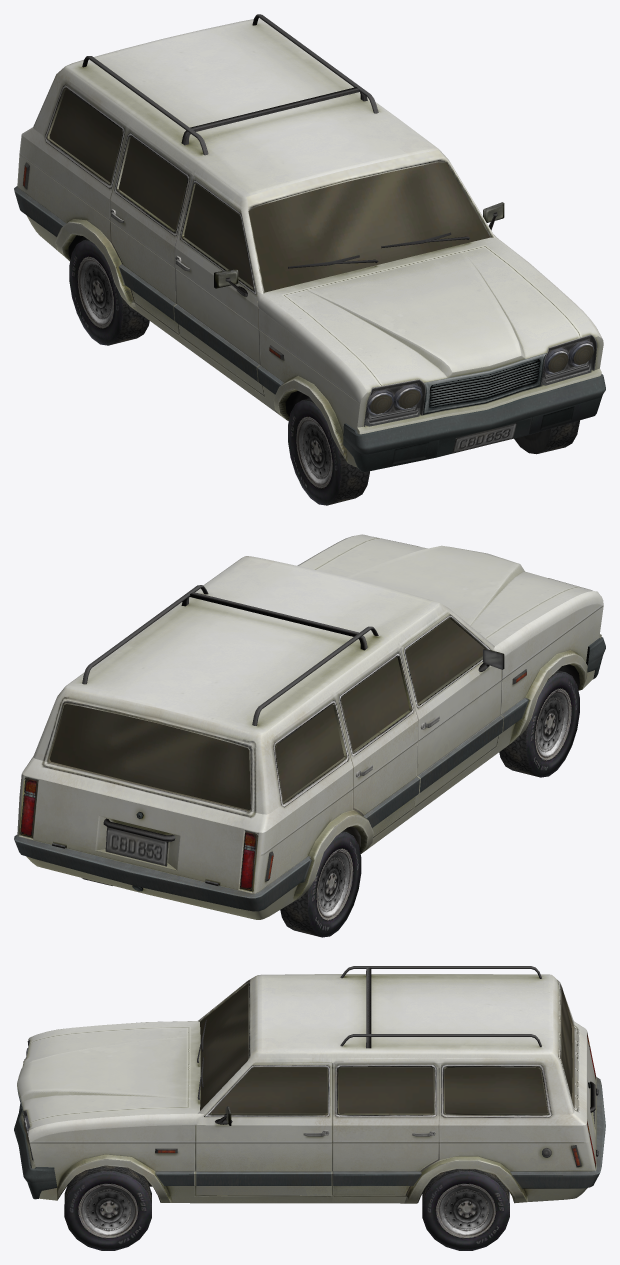
The model's file is suv.FBX.
3 renders of one model, top to bottom at view 1: azimuth 30°, elevation 25°; view 2: azimuth 150°, elevation 25°; view 3: azimuth 270°, elevation 25°, orthographic. The views are drawn at different scales.
Visible parts, largest first — view 1: OS_suv01, windshild, door_r, wheel_F_R, wheel_R_R, wheel_F_L; view 2: OS_suv01, windshild, door_r, wheel_F_R, wheel_R_R; view 3: OS_suv01, windshild, door_l, wheel_F_L, wheel_R_L.
Part boxes in pixels (x1,y1,x2,y2): OS_suv01: (14,14,605,472); windshild: (49,90,593,414); door_r: (174,176,263,394); wheel_F_R: (288,398,369,505); wheel_R_R: (69,239,149,345); wheel_F_L: (514,420,579,454); OS_suv01: (14,534,605,919); windshild: (49,618,484,810); door_r: (401,612,504,806); wheel_F_R: (499,670,579,777); wheel_R_R: (280,831,361,937); OS_suv01: (14,966,605,1203); windshild: (23,983,572,1147); door_l: (196,1063,331,1195); wheel_F_L: (64,1165,151,1250); wheel_R_L: (422,1169,509,1250).
Bounding box in the file's own units: 21.9 × 17.91 × 47.4.
